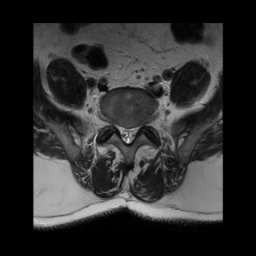CCS_normal: (125, 119, 130, 148)
LFS_severe_stenosis: (136, 117, 144, 136)
LLS_normal: (130, 121, 136, 142)
RFS_stenosis: (111, 115, 118, 136)
RLS_normal: (118, 121, 125, 143)
